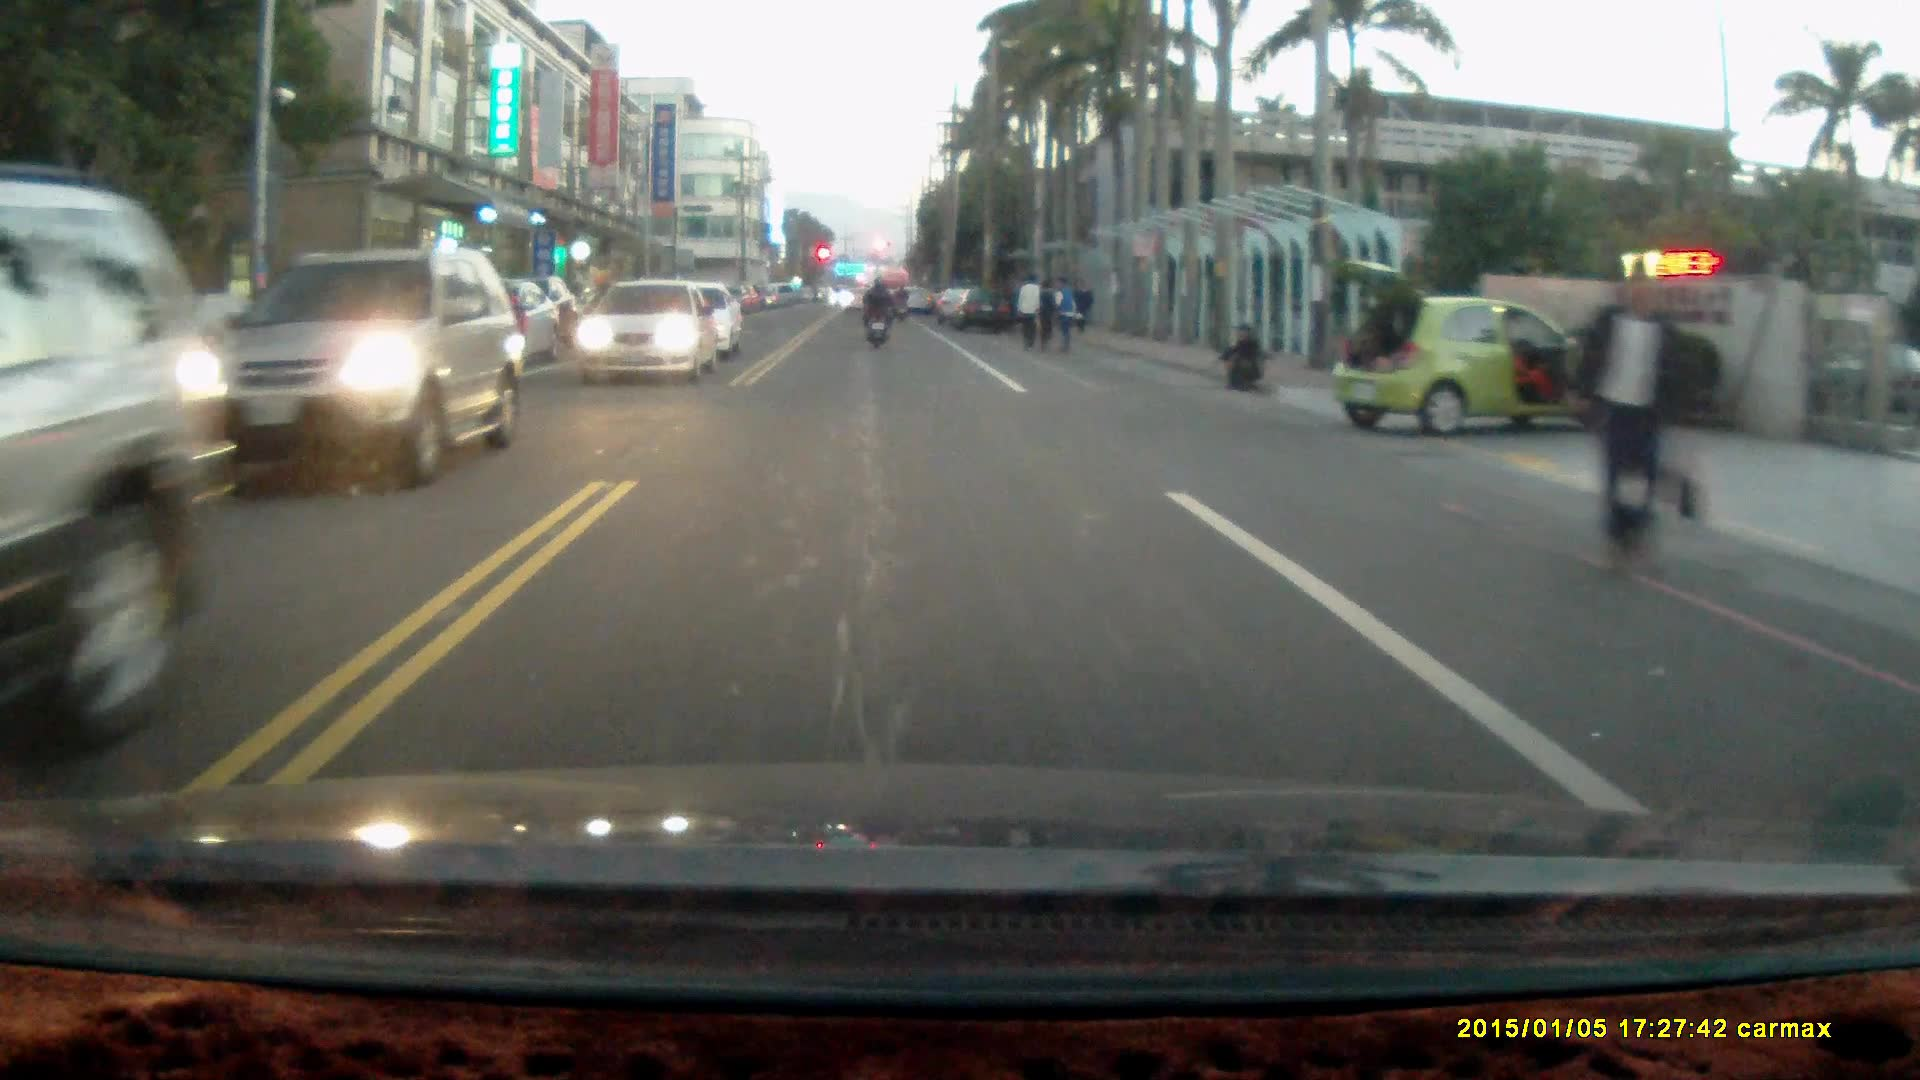pedestrian: (1571, 260, 1688, 584), (1219, 322, 1266, 393), (1047, 274, 1080, 353), (1015, 276, 1041, 357), (1035, 280, 1061, 355)
rider: (858, 273, 894, 350)
vehicle: (1, 164, 241, 766), (172, 247, 526, 492), (1331, 262, 1612, 440), (572, 281, 715, 390), (951, 285, 1015, 336)
